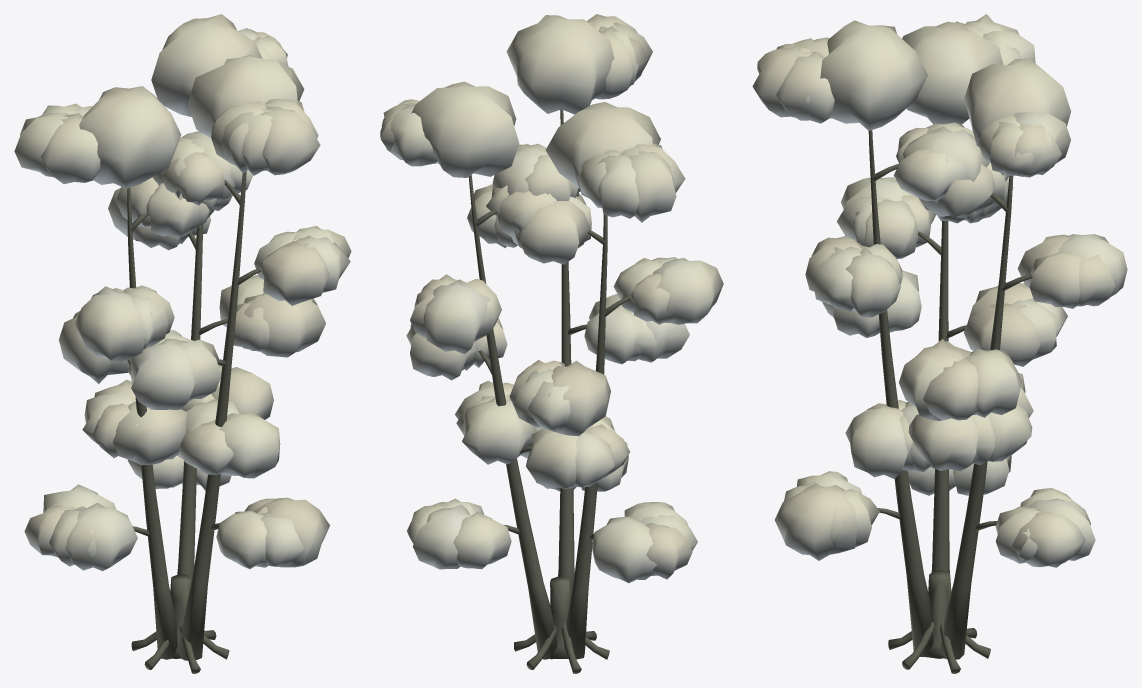
3 views of the same model, side by side, from view 1: azimuth 30°, elevation 25°; view 2: azimuth 150°, elevation 25°; view 3: azimuth 270°, elevation 25° (orthographic). The views are drawn at different scales.
Visible parts, largest first — view 1: crown, trunk; view 2: crown, trunk; view 3: crown, trunk.
Boxes of the visible parts, x1,y1,x2,y2 form: crown: (14,14,351,570); trunk: (127,171,260,673); crown: (380,14,723,583); trunk: (468,109,630,673); crown: (752,14,1127,567); trunk: (868,130,1032,673).
Size of the model in its own units: 5.95 by 12.16 by 6.41.
